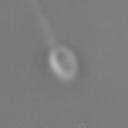normal: (26, 1, 59, 46)
